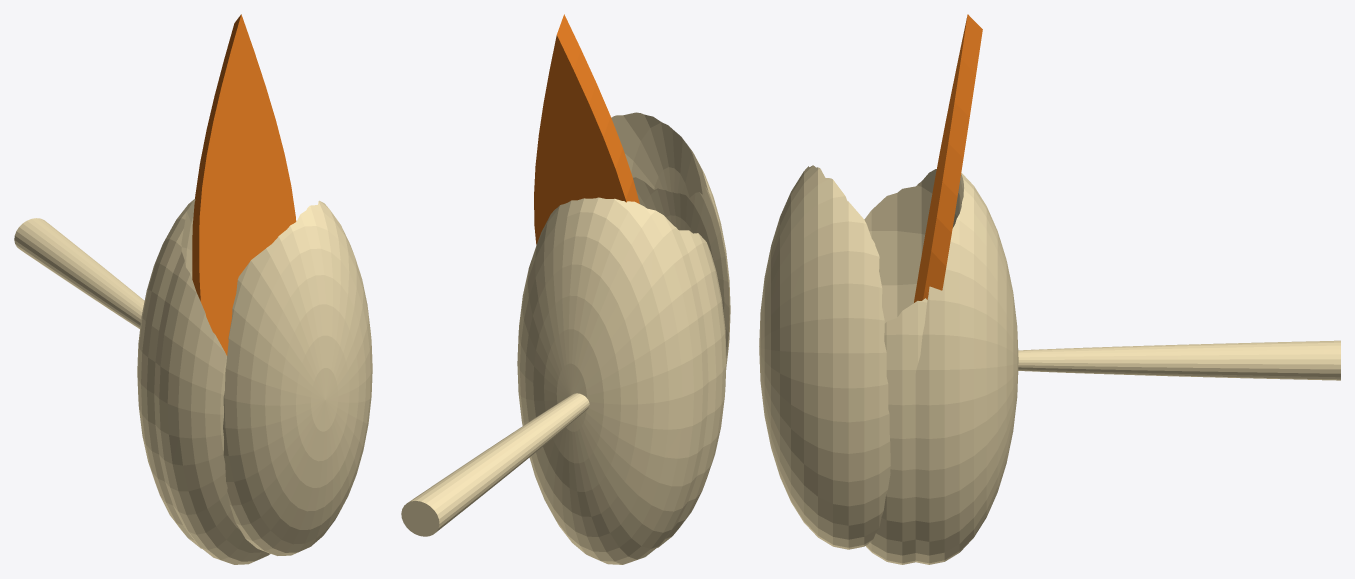
Rendered from tinker.obj.
3 views of the same model, side by side, from view 1: azimuth 30°, elevation 25°; view 2: azimuth 150°, elevation 25°; view 3: azimuth 270°, elevation 25° (orthographic). The views are drawn at different scales.
Parts seen in each view (by area): view 1: group_0_16311991, group_0_16089887; view 2: group_0_16311991, group_0_16089887; view 3: group_0_16311991, group_0_16089887.
Boxes of the visible parts, x1,y1,x2,y2 form: group_0_16311991: (14, 199, 372, 564); group_0_16089887: (192, 14, 296, 355); group_0_16311991: (401, 112, 730, 564); group_0_16089887: (534, 14, 639, 244); group_0_16311991: (759, 165, 1340, 564); group_0_16089887: (914, 14, 982, 302).
Bounding box in the file's own units: 25 × 69.35 × 65.
